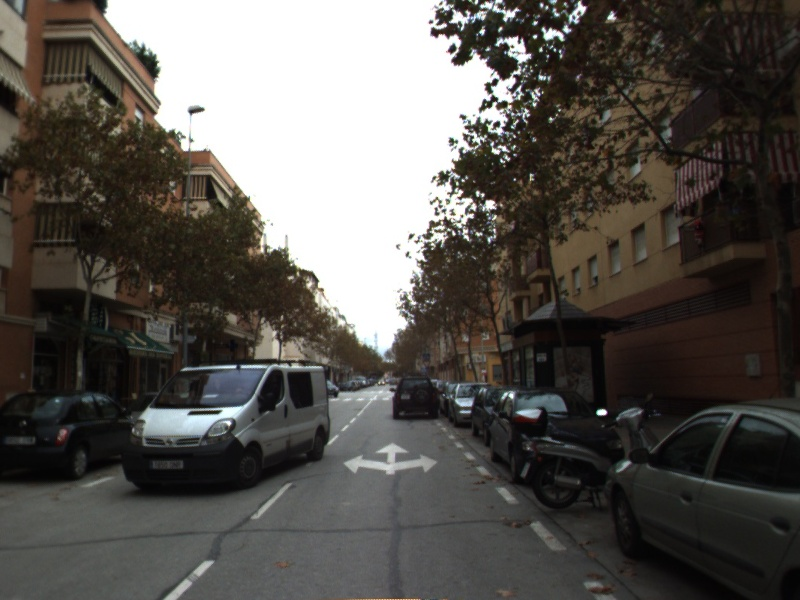STRAIGHT_LEFT_RIGHT: (342, 441, 440, 476)
